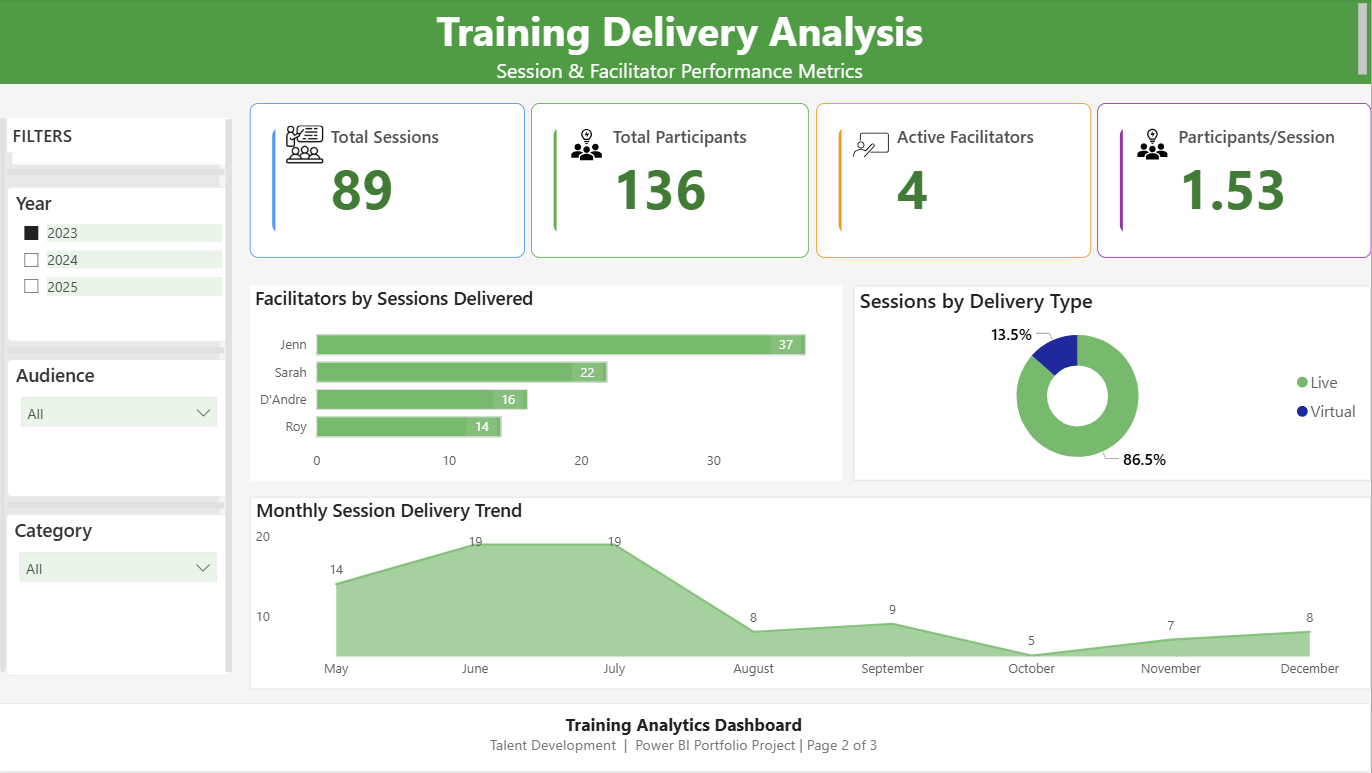

What the dashboard file says about the page in this screenshot:
{"tool":"powerbi","page":{"name":" 02_Training_Delivery_Analysis","canvas":[1280,720],"ordinal":1},"visuals":[{"type":"shape","title":"Filter Panel - Background","box":[0,112,208,512],"z":0},{"type":"textbox","box":[0,0,1280.2,80],"z":1000},{"type":"cardVisual","fields":{"Data":["Facts_Training_Session.Total Training Sessions"]},"box":[236,97.7,255.8,144.2],"z":2000},{"type":"cardVisual","fields":{"Data":["Facts_Training_Session.Total Participants"]},"box":[498.1,97.7,258.1,144.2],"z":3000},{"type":"cardVisual","fields":{"Data":["Facts_Training_Session.Active Facilitators"]},"box":[762.4,97.7,255.8,144.2],"z":4000},{"type":"cardVisual","fields":{"Data":["Facts_Training_Session.Avg Participants per Session"]},"box":[1024.2,97.7,255.8,144.2],"z":5000},{"type":"slicer","title":"Category","fields":{"Values":["Dim_Category.Category"]},"box":[9.7,480,208.7,150.3],"z":6000},{"type":"shape","title":"Divider - Category/Audience","box":[10,464,202,16],"z":7000},{"type":"slicer","title":"Audience","fields":{"Values":["Dim_Audience.Audience"]},"box":[10,336,208,128],"z":8000},{"type":"shape","title":"Divider - Category/Audience","box":[10,320,202,16],"z":9000},{"type":"slicer","title":"Year","fields":{"Values":["Dim_Date.Year"]},"box":[10,176,208,144],"z":10000},{"type":"shape","title":"Divider - Category/Audience","box":[10,153,202,16.7],"z":11000},{"type":"shape","title":"FILTERS","box":[10,112,208,48],"z":12000},{"type":"textbox","box":[0,656,1280,64],"z":13000},{"type":"shape","box":[210.1,112.7,12,514],"z":14000},{"type":"shape","box":[0,112.7,12.5,514],"z":15000},{"type":"clusteredBarChart","title":"Facilitators by Sessions Delivered","fields":{"Category":["Facts_Training_Session.Facilitator"],"Y":["Facts_Training_Session.Total Training Sessions"]},"box":[236,267.4,551.2,181.4],"z":16000},{"type":"donutChart","title":"Sessions by Delivery Type","fields":{"Category":["Facts_Training_Session.Delivery_Type"],"Y":["Facts_Training_Session.Total Training Sessions"]},"box":[797.7,267.4,482.6,181.4],"z":17000},{"type":"areaChart","title":"Monthly Session Delivery Trend","fields":{"Category":["Dim_Date.MonthName"],"Y":["Facts_Training_Session.Total Training Sessions"]},"box":[236,464,1044.2,179.1],"z":18000}]}

Visuals, with their boxes in screenshot pixels (x1, y1, x2, y2), scaled from the page's 1280x720 canvas onto the 1372x773 screenshot:
"Filter Panel - Background" shape: {"left": 0, "top": 120, "right": 223, "bottom": 670}
textbox: {"left": 0, "top": 0, "right": 1371, "bottom": 86}
cardVisual - Facts_Training_Session.Total Training Sessions: {"left": 253, "top": 105, "right": 527, "bottom": 260}
cardVisual - Facts_Training_Session.Total Participants: {"left": 534, "top": 105, "right": 811, "bottom": 260}
cardVisual - Facts_Training_Session.Active Facilitators: {"left": 817, "top": 105, "right": 1091, "bottom": 260}
cardVisual - Facts_Training_Session.Avg Participants per Session: {"left": 1098, "top": 105, "right": 1371, "bottom": 260}
"Category" slicer: {"left": 10, "top": 515, "right": 234, "bottom": 677}
"Divider - Category/Audience" shape: {"left": 11, "top": 498, "right": 227, "bottom": 515}
"Audience" slicer: {"left": 11, "top": 361, "right": 234, "bottom": 498}
"Divider - Category/Audience" shape: {"left": 11, "top": 344, "right": 227, "bottom": 361}
"Year" slicer: {"left": 11, "top": 189, "right": 234, "bottom": 344}
"Divider - Category/Audience" shape: {"left": 11, "top": 164, "right": 227, "bottom": 182}
"FILTERS" shape: {"left": 11, "top": 120, "right": 234, "bottom": 172}
textbox: {"left": 0, "top": 704, "right": 1371, "bottom": 772}
shape: {"left": 225, "top": 121, "right": 238, "bottom": 673}
shape: {"left": 0, "top": 121, "right": 13, "bottom": 673}
"Facilitators by Sessions Delivered" clusteredBarChart: {"left": 253, "top": 287, "right": 844, "bottom": 482}
"Sessions by Delivery Type" donutChart: {"left": 855, "top": 287, "right": 1371, "bottom": 482}
"Monthly Session Delivery Trend" areaChart: {"left": 253, "top": 498, "right": 1371, "bottom": 690}
